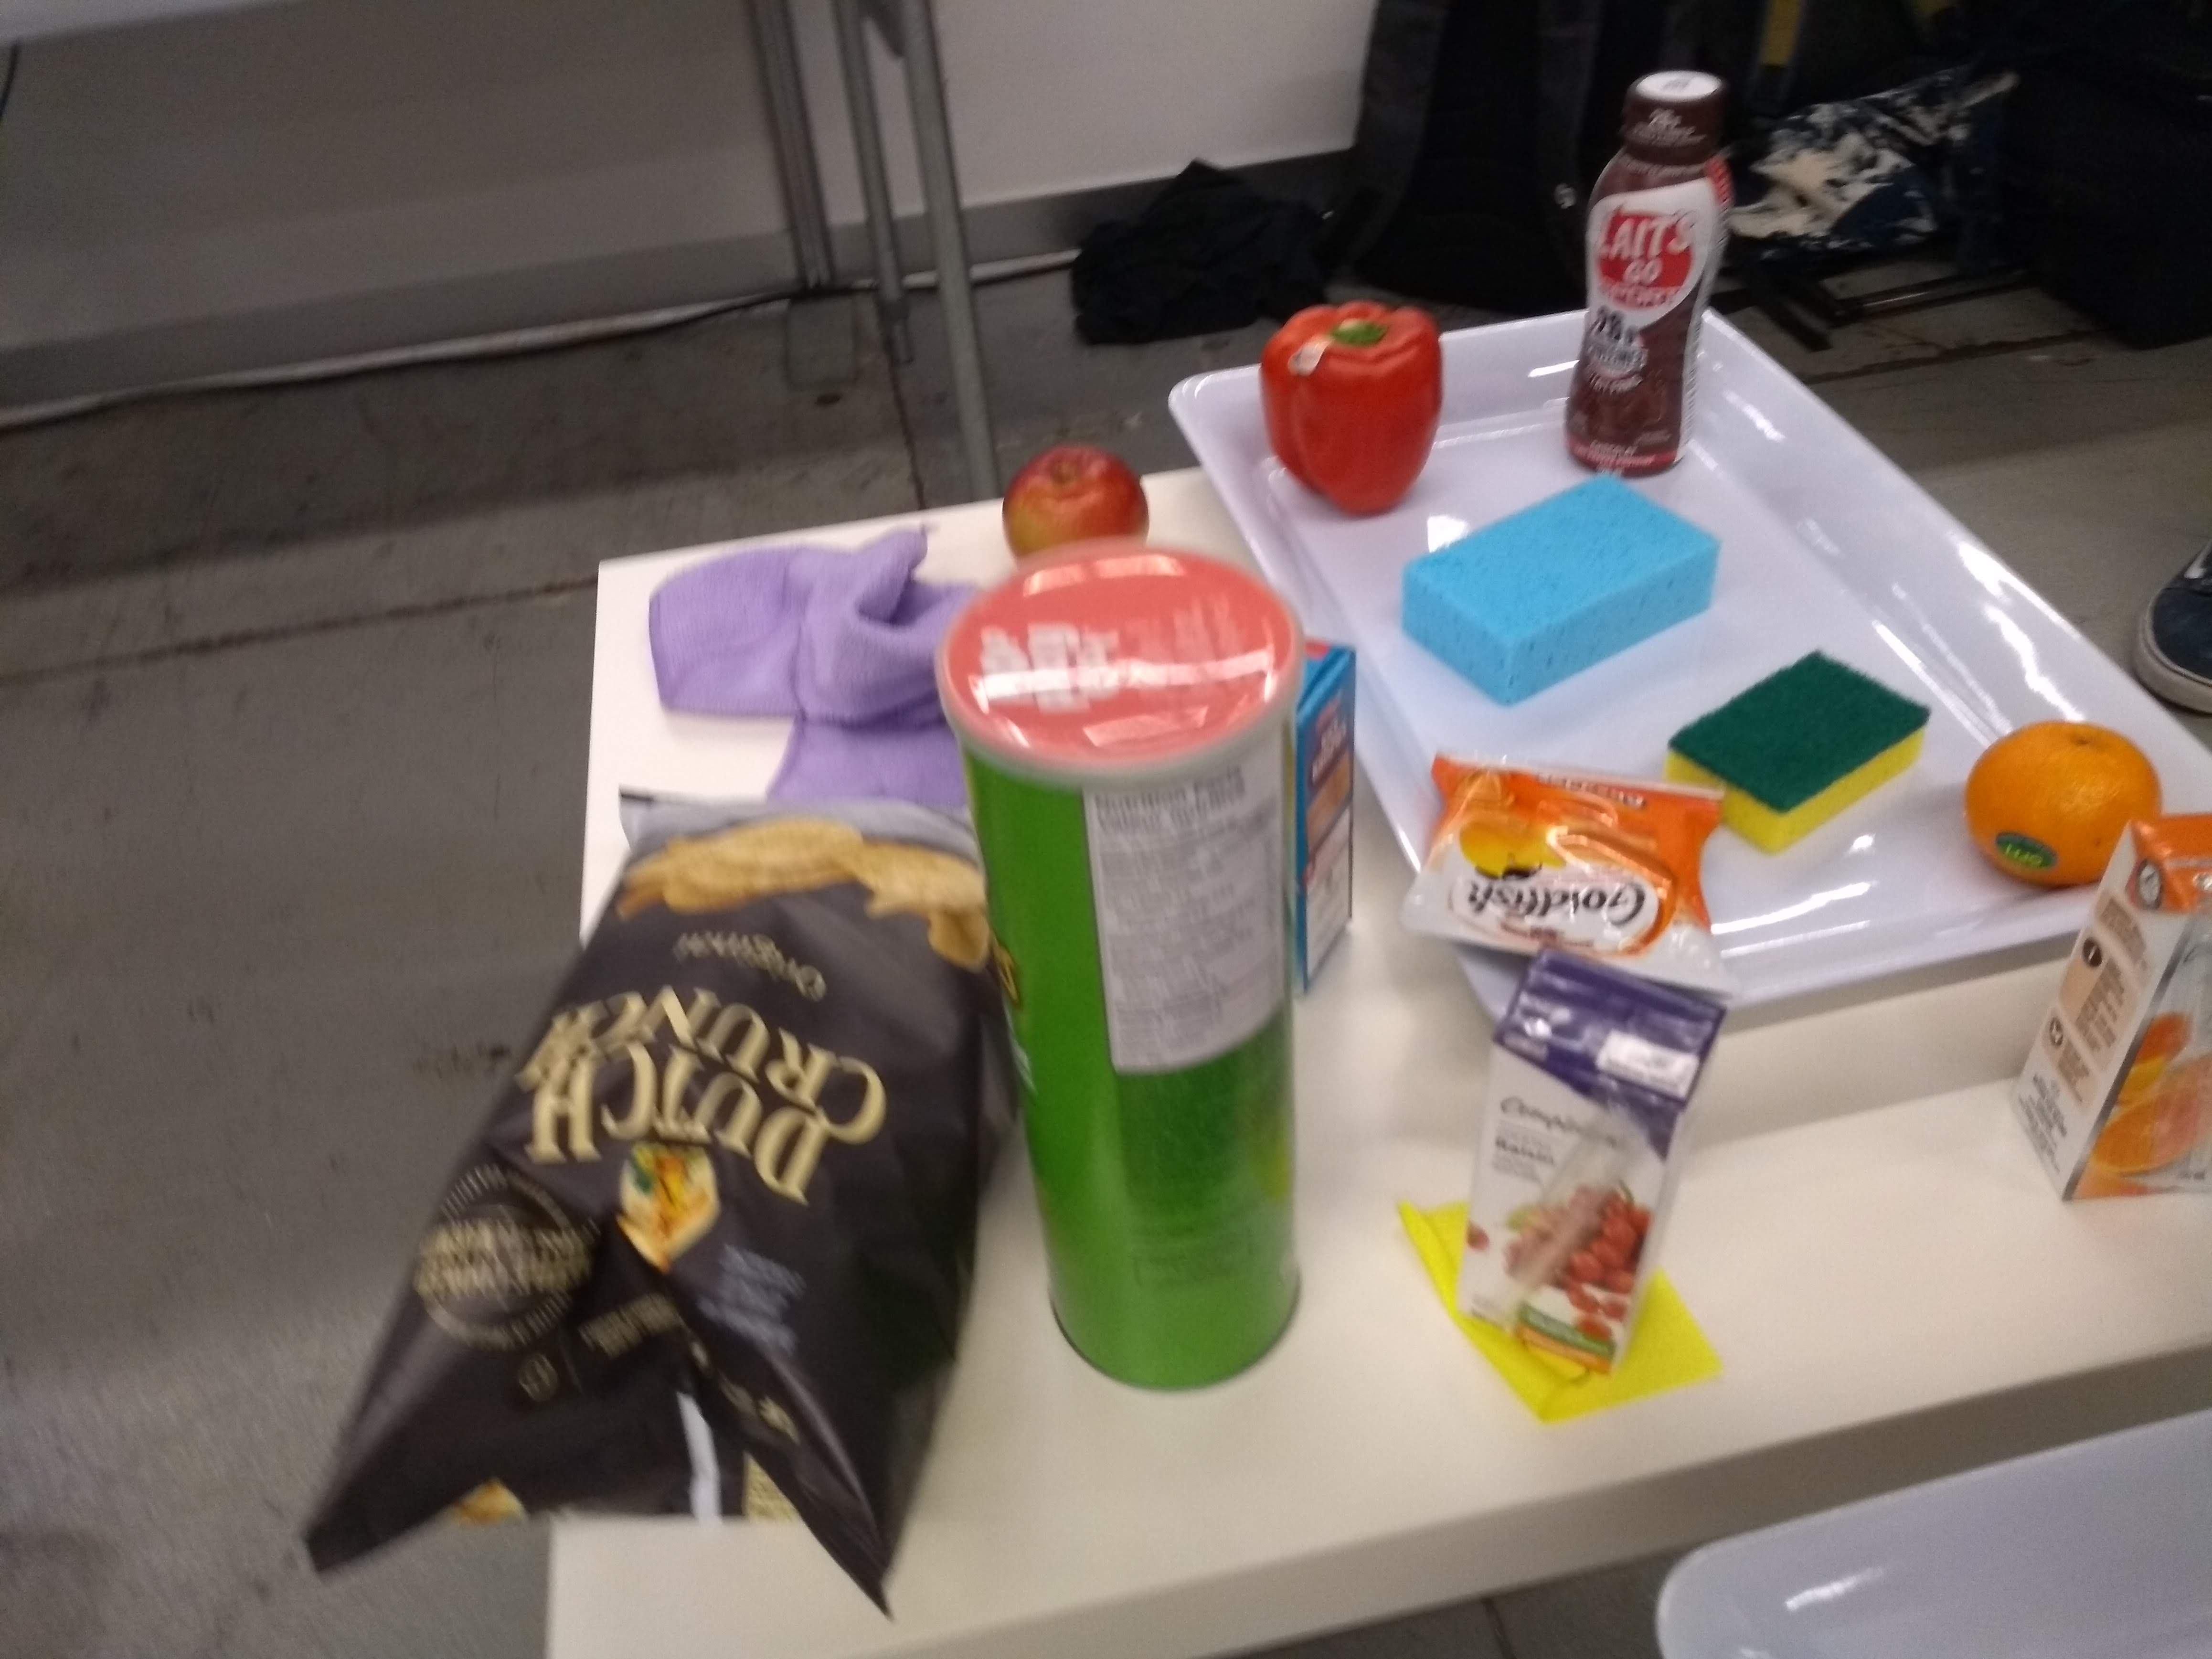chocolate_drink: (1550, 58, 1747, 486)
crackers: (1381, 742, 1742, 1006)
grape_juice: (1453, 925, 1738, 1380)
orange: (1956, 709, 2163, 903)
paprika: (1252, 289, 1453, 525)
potato_chips: (289, 781, 1019, 1635)
pringles: (935, 533, 1322, 1408)
scrubby: (1653, 643, 1944, 864)
sponge_opl: (1388, 462, 1726, 716)
